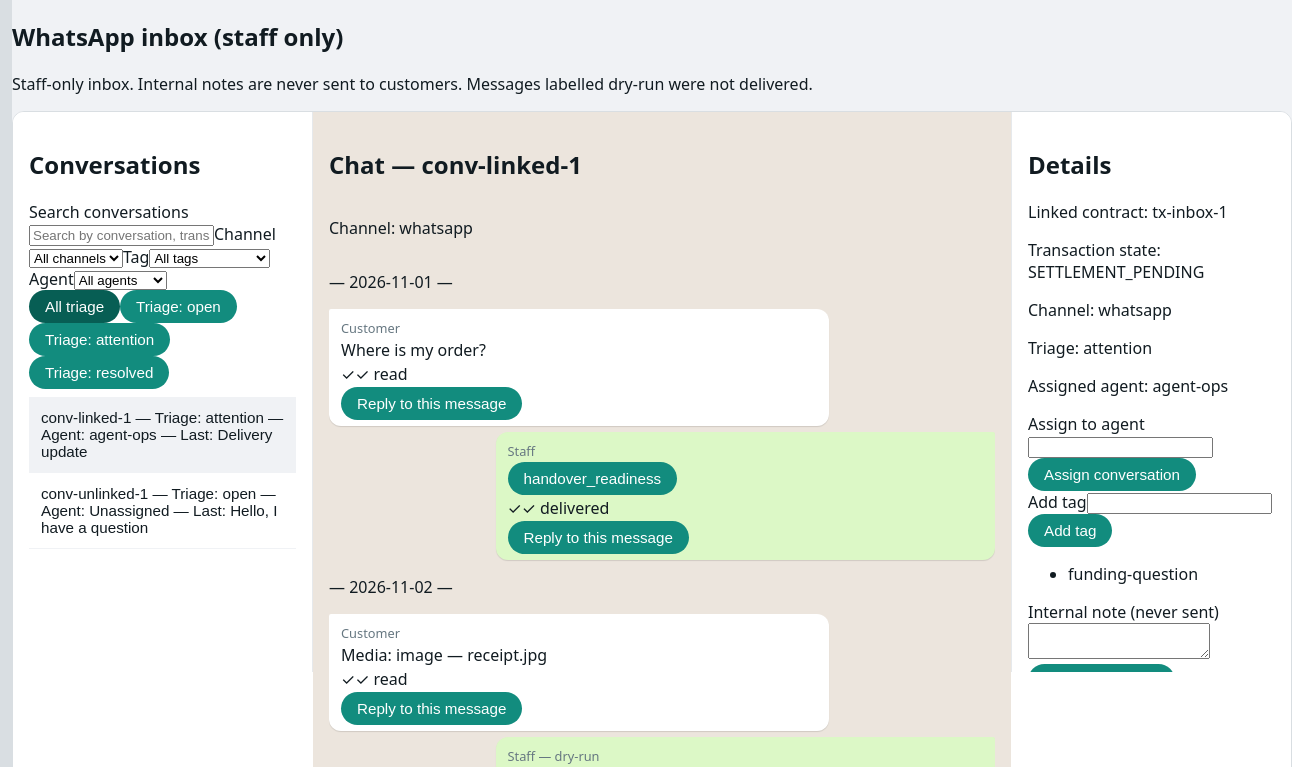
Test: inbox triptych (Sprint 4, PB-13) › details assignment and tags update the conversation locally and say so without a backend
Later steps or results of the test are not shown.
Type "agent-two" into the field labelled "Assign to agent".
click(1120, 447); type("agent-two")  # box [1028,437,1213,458]
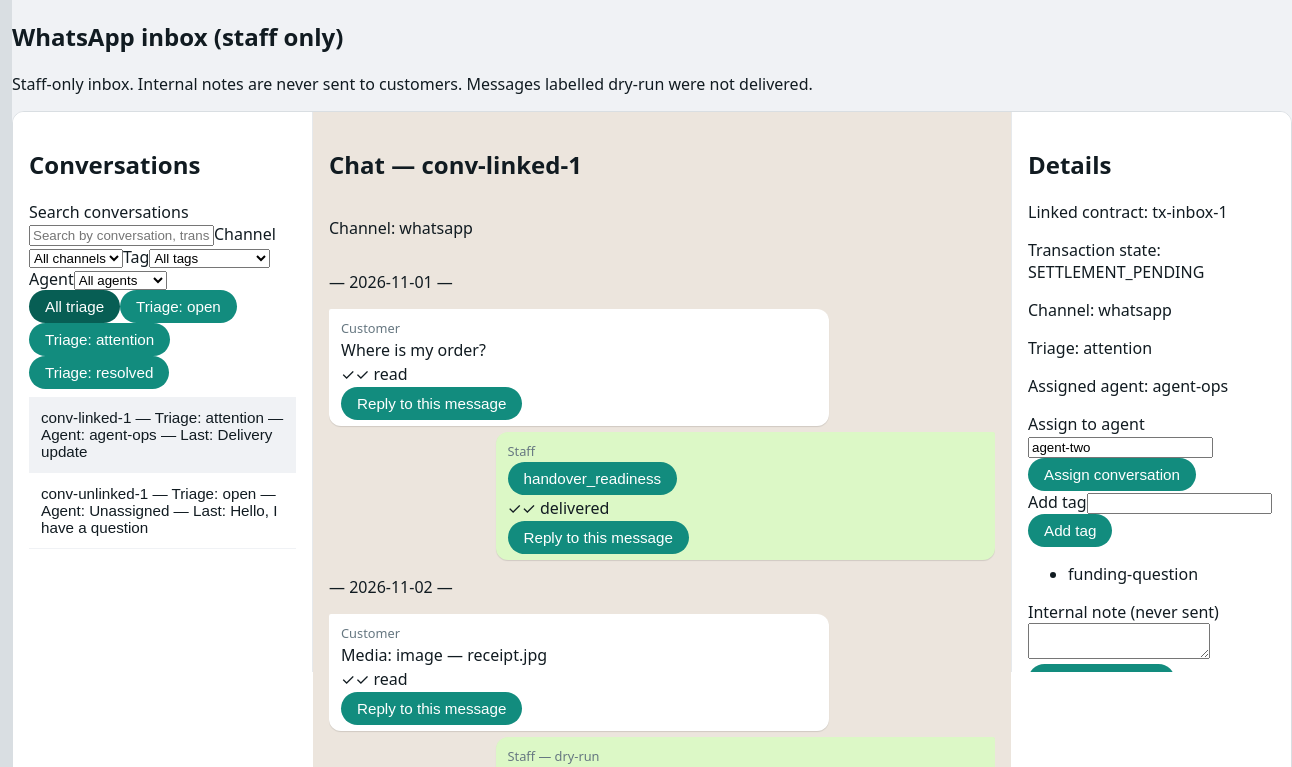
Click the button "Assign conversation".
click(1112, 474)  # box [1028,458,1196,491]
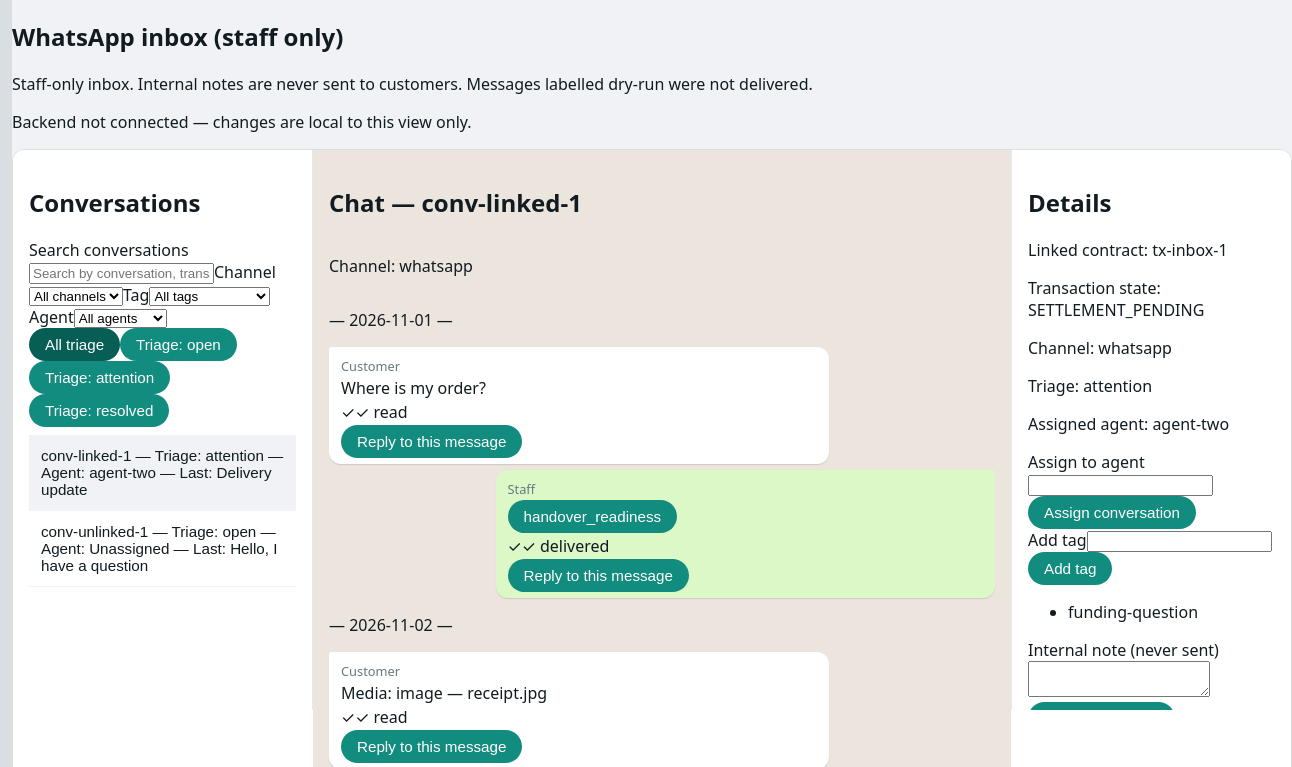
Expected: the text "Assigned agent: agent-two" is shown, [1028,413,1229,435]
Expected: the text "Backend not connected — changes are local to this view only." is shown, [12,111,472,133]
